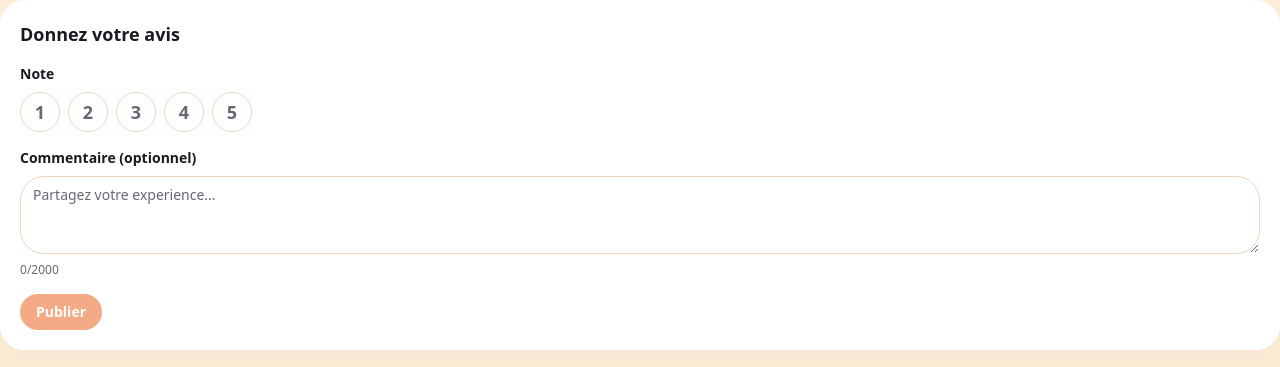
Test: ReviewForm › create mode › shows character count
Expected: the text "0/2000" is shown, [20,261,59,278]
In the text box with placeholder "Partagez votre experience...": x=640, y=215 [20,176,1260,254], type "Bon"
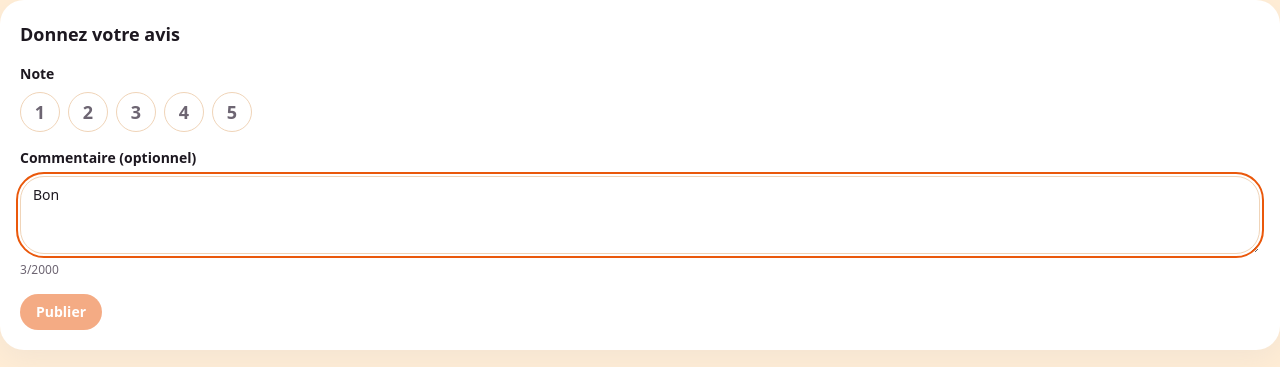
Expected: the text "3/2000" is shown, [20,261,59,278]
